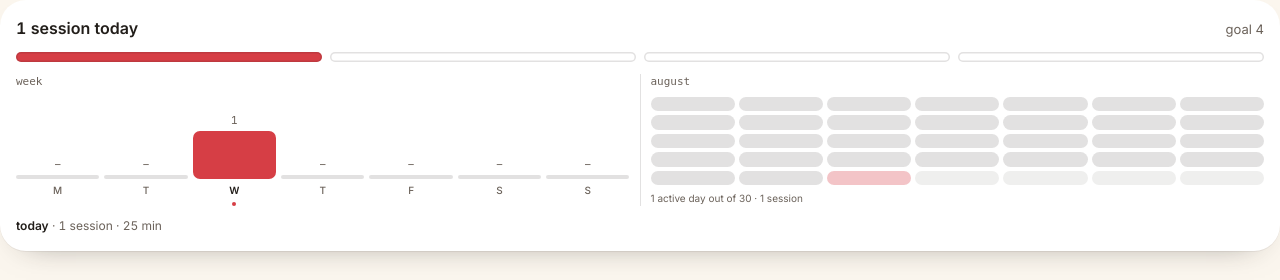
Scenario: picking a day › goes back to today when the same day is picked again
What coordinates should you click on to do the following:
click the 1st button "– t"
I would click on:
 (146, 151)
Its box is [104,96,188,206].
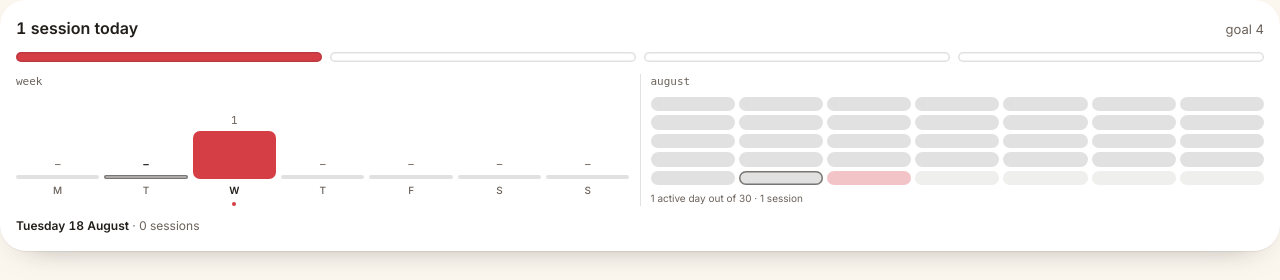
Now the message reads "Tuesday 18 August · 0 sessions", box [16,218,200,233]
What coordinates should you click on to do the following:
click the 1st button "– t"
I would click on:
 (146, 151)
Its box is [104,96,188,206].
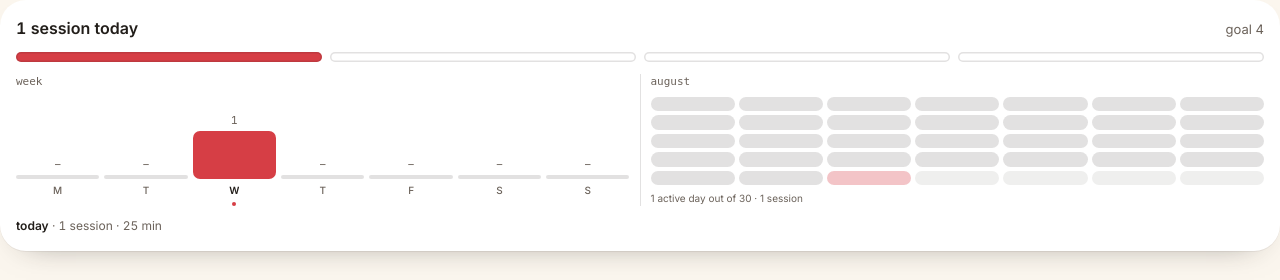
Now the message reads "today · 1 session · 25 min", box [16,218,162,233]
